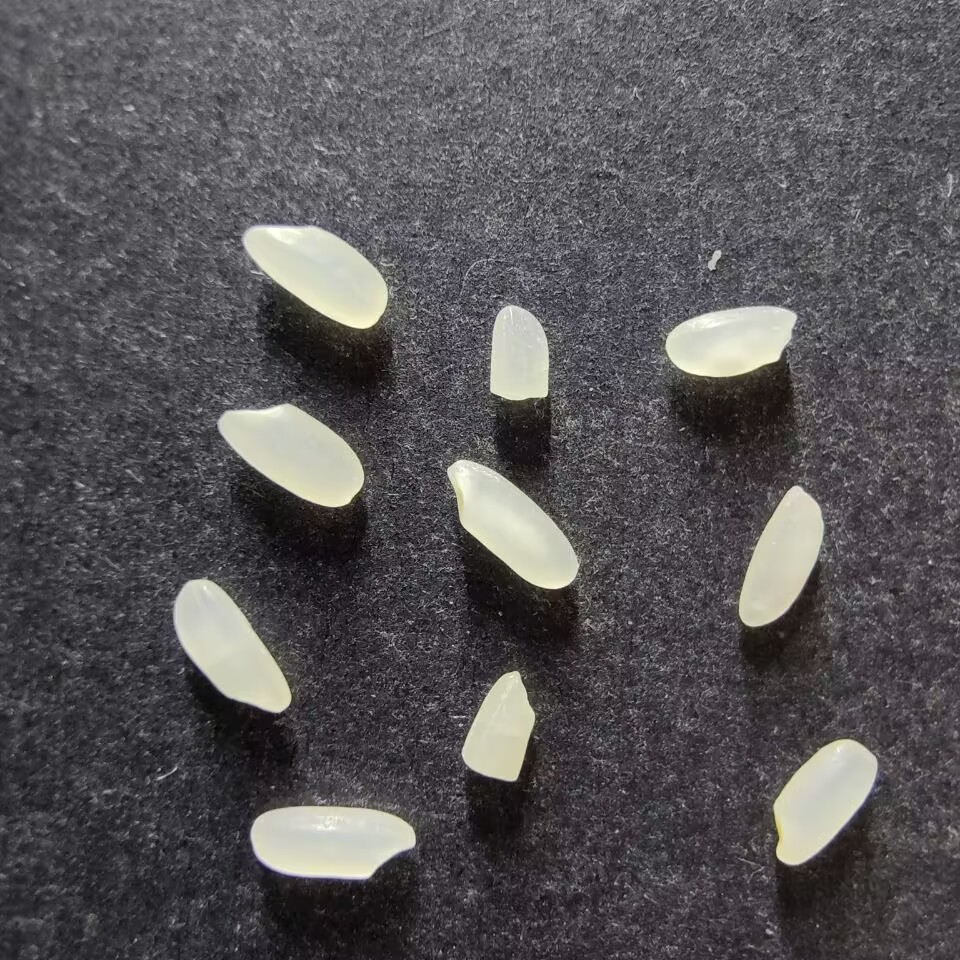broken: (458, 668, 538, 784), (487, 302, 552, 402)
rice: (444, 457, 582, 592), (171, 575, 293, 714), (240, 221, 390, 331), (214, 401, 365, 508), (771, 737, 882, 867), (737, 482, 827, 628), (248, 803, 418, 880), (663, 303, 798, 379)
